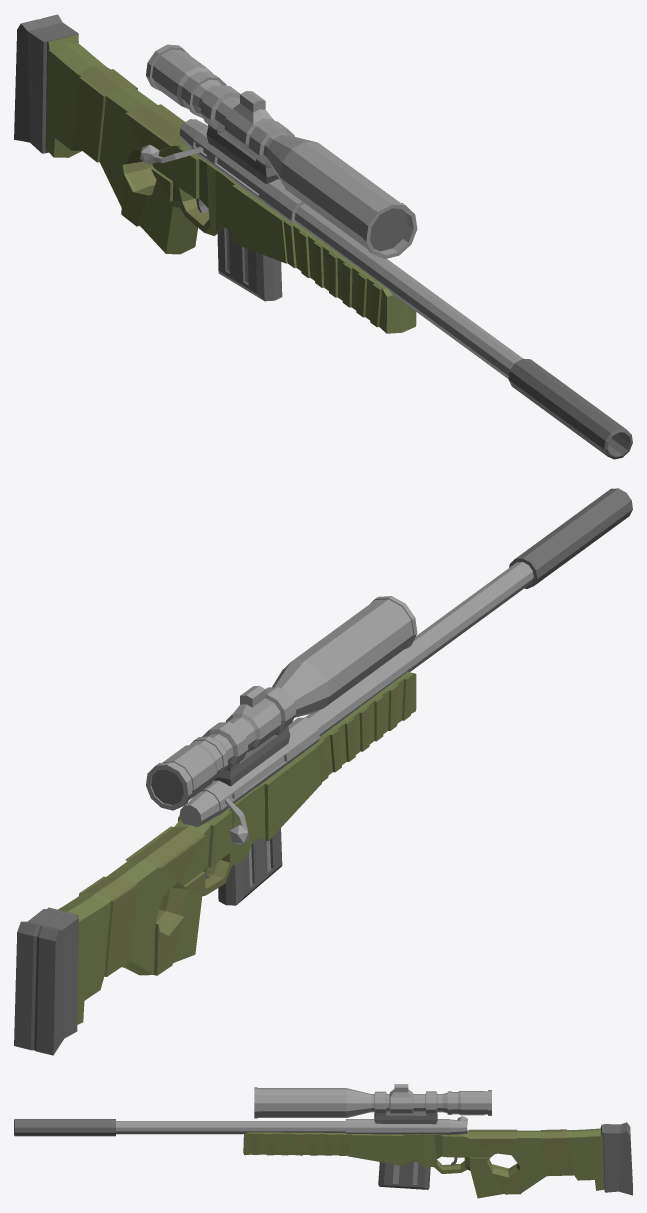
Rendered from AWP.fbx.
The picture shows the model from 3 angles, top to bottom: view 1: azimuth 30°, elevation 25°; view 2: azimuth 150°, elevation 25°; view 3: azimuth 270°, elevation 25°; orthographic projection. The views are drawn at different scales.
Visible parts, largest first — view 1: AWP_Body, AWP_Scope, AWP_Barrel, AWP_Mag, AWP_ScopeMount; view 2: AWP_Body, AWP_Scope, AWP_Barrel, AWP_Mag, AWP_ScopeMount; view 3: AWP_Body, AWP_Barrel, AWP_Scope, AWP_Mag, AWP_ScopeMount.
Boxes of the visible parts, x1,y1,x2,y2 form: AWP_Body: (14, 14, 416, 333); AWP_Scope: (146, 44, 417, 259); AWP_Barrel: (179, 119, 632, 459); AWP_Mag: (217, 227, 282, 301); AWP_ScopeMount: (206, 124, 279, 183); AWP_Body: (14, 671, 416, 1055); AWP_Scope: (146, 596, 417, 810); AWP_Barrel: (179, 488, 632, 827); AWP_Mag: (218, 828, 282, 905); AWP_ScopeMount: (213, 726, 290, 786); AWP_Body: (243, 1122, 632, 1198); AWP_Barrel: (14, 1119, 467, 1136); AWP_Scope: (254, 1084, 491, 1118); AWP_Mag: (378, 1161, 430, 1189); AWP_ScopeMount: (374, 1112, 437, 1124).
Bounding box in the file's own units: 135 × 345 × 1731.
